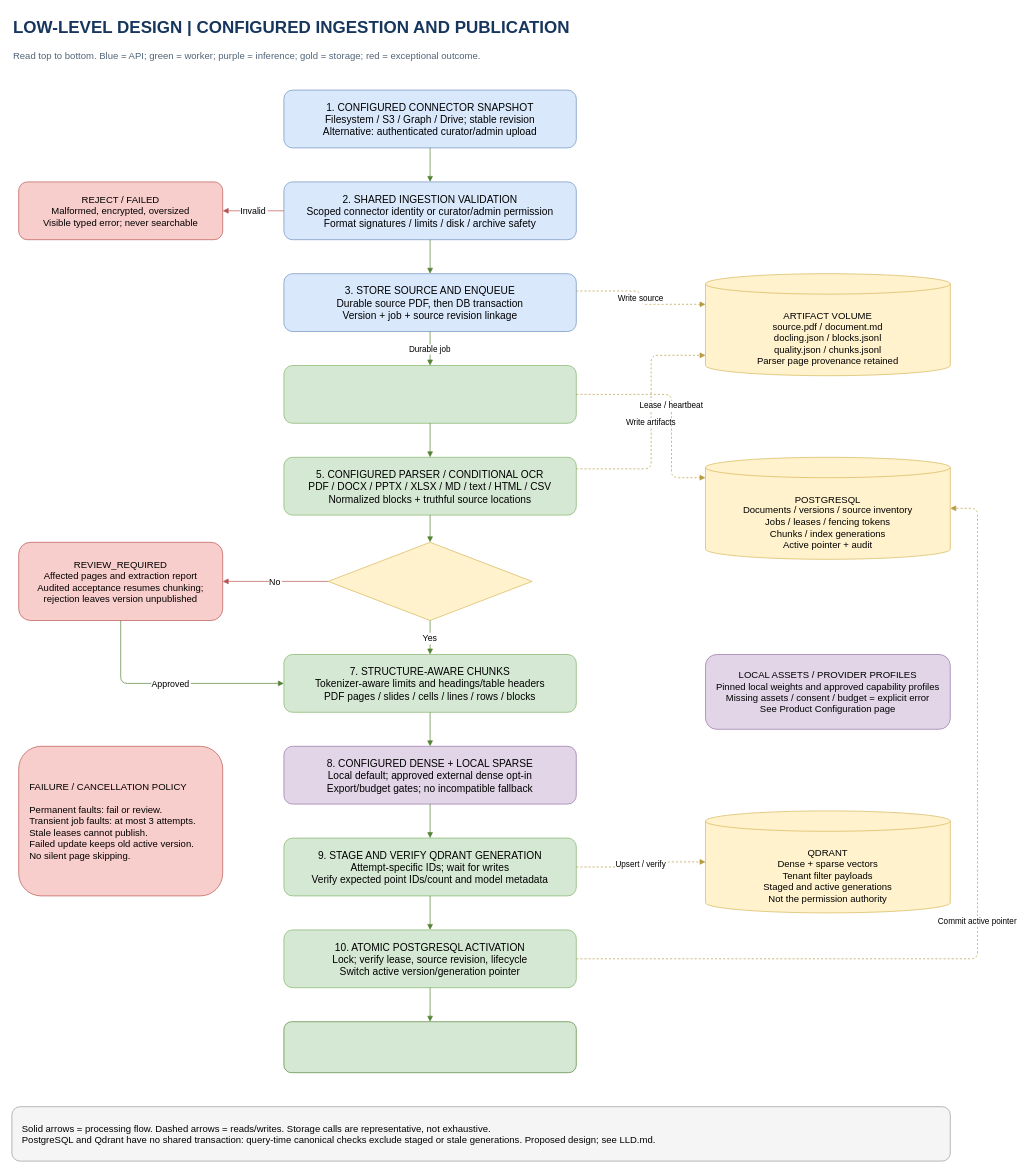
The diagram is 1030 pixels wide and 1173 high, and some of its shapes have lost their labels. The box of each missing label's shape, as (x1, y1, x2, y2) in pixels:
4. WORKER CLAIMS JOB SKIP LOCKED + fencing token 120 s lease / 20 s heartbeat: (283, 365, 576, 423)
6. Extraction quality and provenance OK?: (327, 542, 532, 620)
READY / SEARCHABLE Retire old generation; schedule safe cleanup: (283, 1021, 576, 1073)
